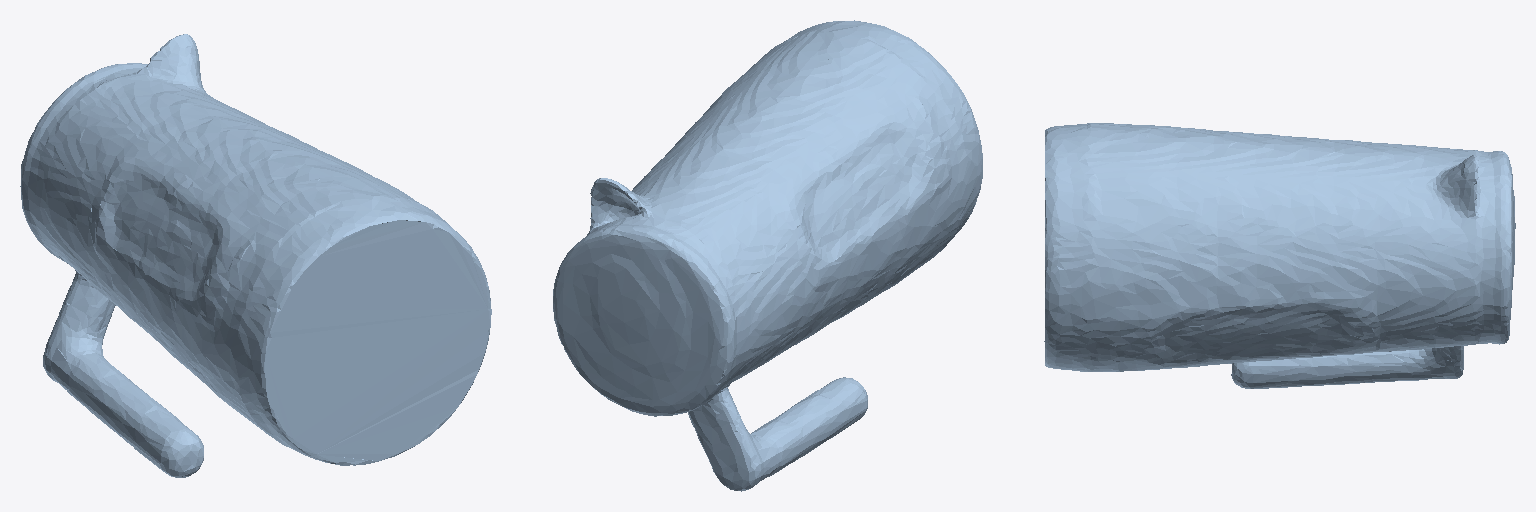
The robot description file, URDF, robot "KettleGreen.urdf":
<?xml version="1.0" ?>
<robot name="KettleGreen.urdf">
  <dynamics damping="0.5" friction="0.9"/>
  <link name="baseLink">
    <contact>
      <lateral_friction value="0.9"/>
      <rolling_friction value="0.5"/>
      <stiffness value="30000"/>
      <damping value="1000"/>
    </contact>
    <visual>
      <origin rpy="0 0 0" xyz="0 0 0"/>
      <geometry>
        <mesh filename="objects/KettleGreen/KettleGreen.obj" scale="1.0 1.0 1.0"/>
      </geometry>
      <material name="mat">
        <color rgba="0.7 0.8 0.9 1"/>
      </material>
    </visual>
    <collision>
      <origin rpy="0 0 0" xyz="0 0 0"/>
      <geometry>
        <mesh filename="objects/KettleGreen/KettleGreen.obj" scale="1.0 1.0 1.0"/>
      </geometry>
    </collision>
  </link>
</robot>

--- Render facts (derived) ---
3 views of the same robot in one strip: view 1: azimuth 30°, elevation 25°; view 2: azimuth 150°, elevation 25°; view 3: azimuth 270°, elevation 25° (orthographic).
Model KettleGreen.urdf with 1 links and 0 joints (none), rooted at baseLink, posed every joint at zero.
Links seen in each view (by area): view 1: baseLink; view 2: baseLink; view 3: baseLink.
Link boxes in pixels (x1=…): baseLink: x1=20, y1=34, x2=491, y2=477; baseLink: x1=553, y1=20, x2=982, y2=491; baseLink: x1=1044, y1=123, x2=1515, y2=388.
Bounding box of the posed robot: 0.1346 × 0.2536 × 0.1714 m (x, y, z).
Meshes: 1 distinct files referenced, 1 mesh visuals loaded (1 OBJ).
